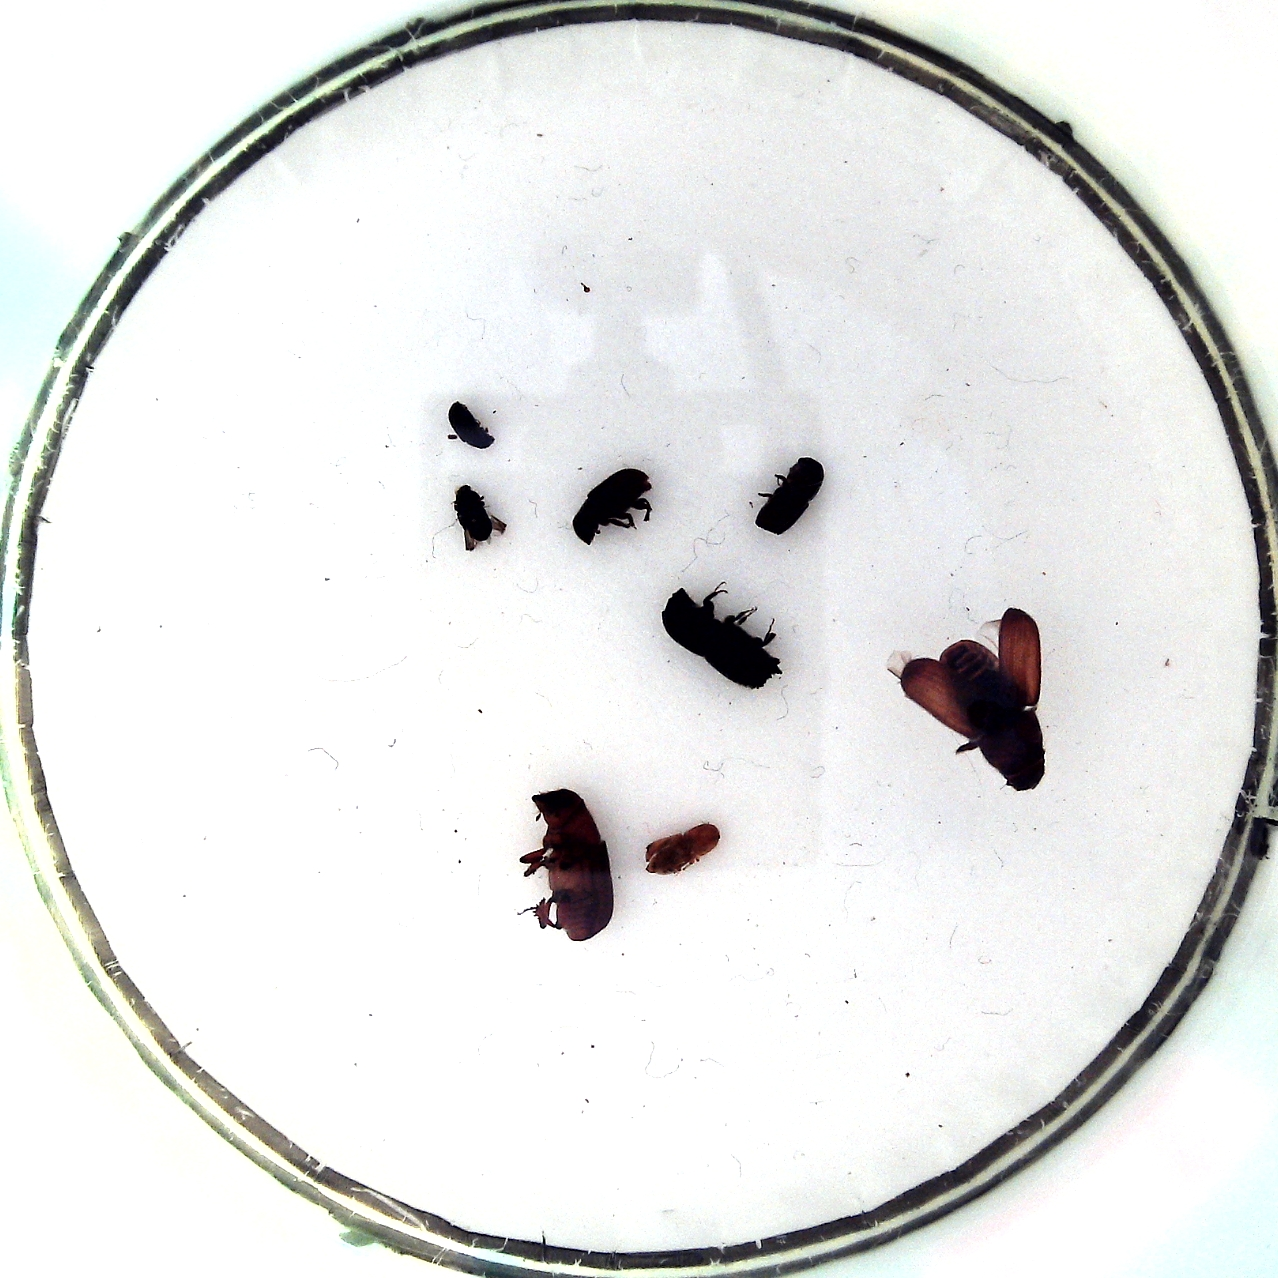Boerner: (662, 588, 784, 690)
Leconte: (939, 640, 1046, 792), (530, 789, 614, 941)
acuminatus: (454, 485, 492, 541)
armandi: (573, 469, 653, 547)
coleoptera: (644, 823, 720, 875), (449, 401, 495, 449)
linnaeus: (755, 456, 824, 534)
